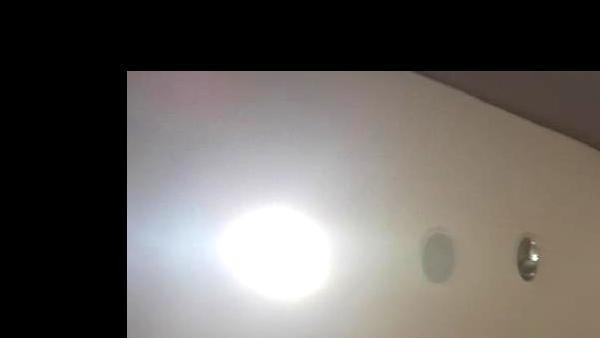light_off: (504, 215, 552, 293)
